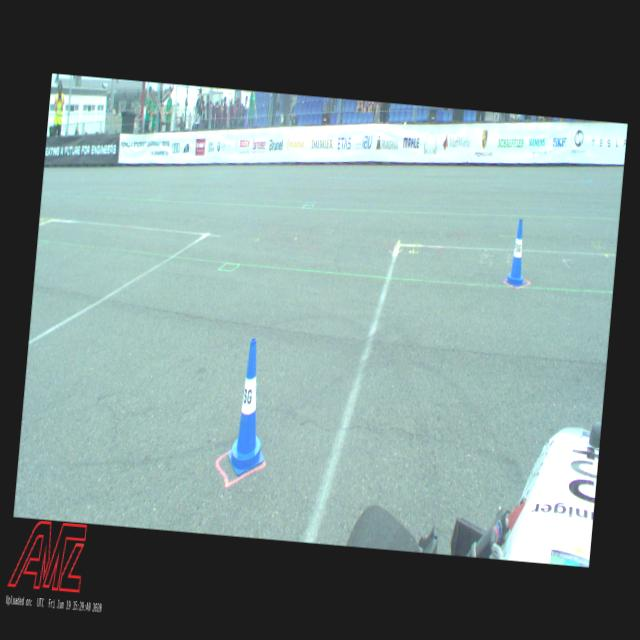blue_cone: (226, 336, 274, 476), (504, 217, 530, 287)
